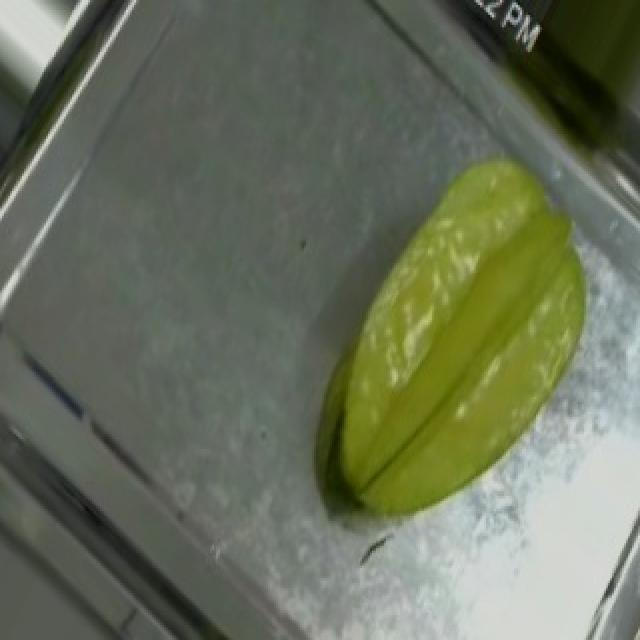fruit: (288, 109, 640, 511), (508, 0, 640, 154)
